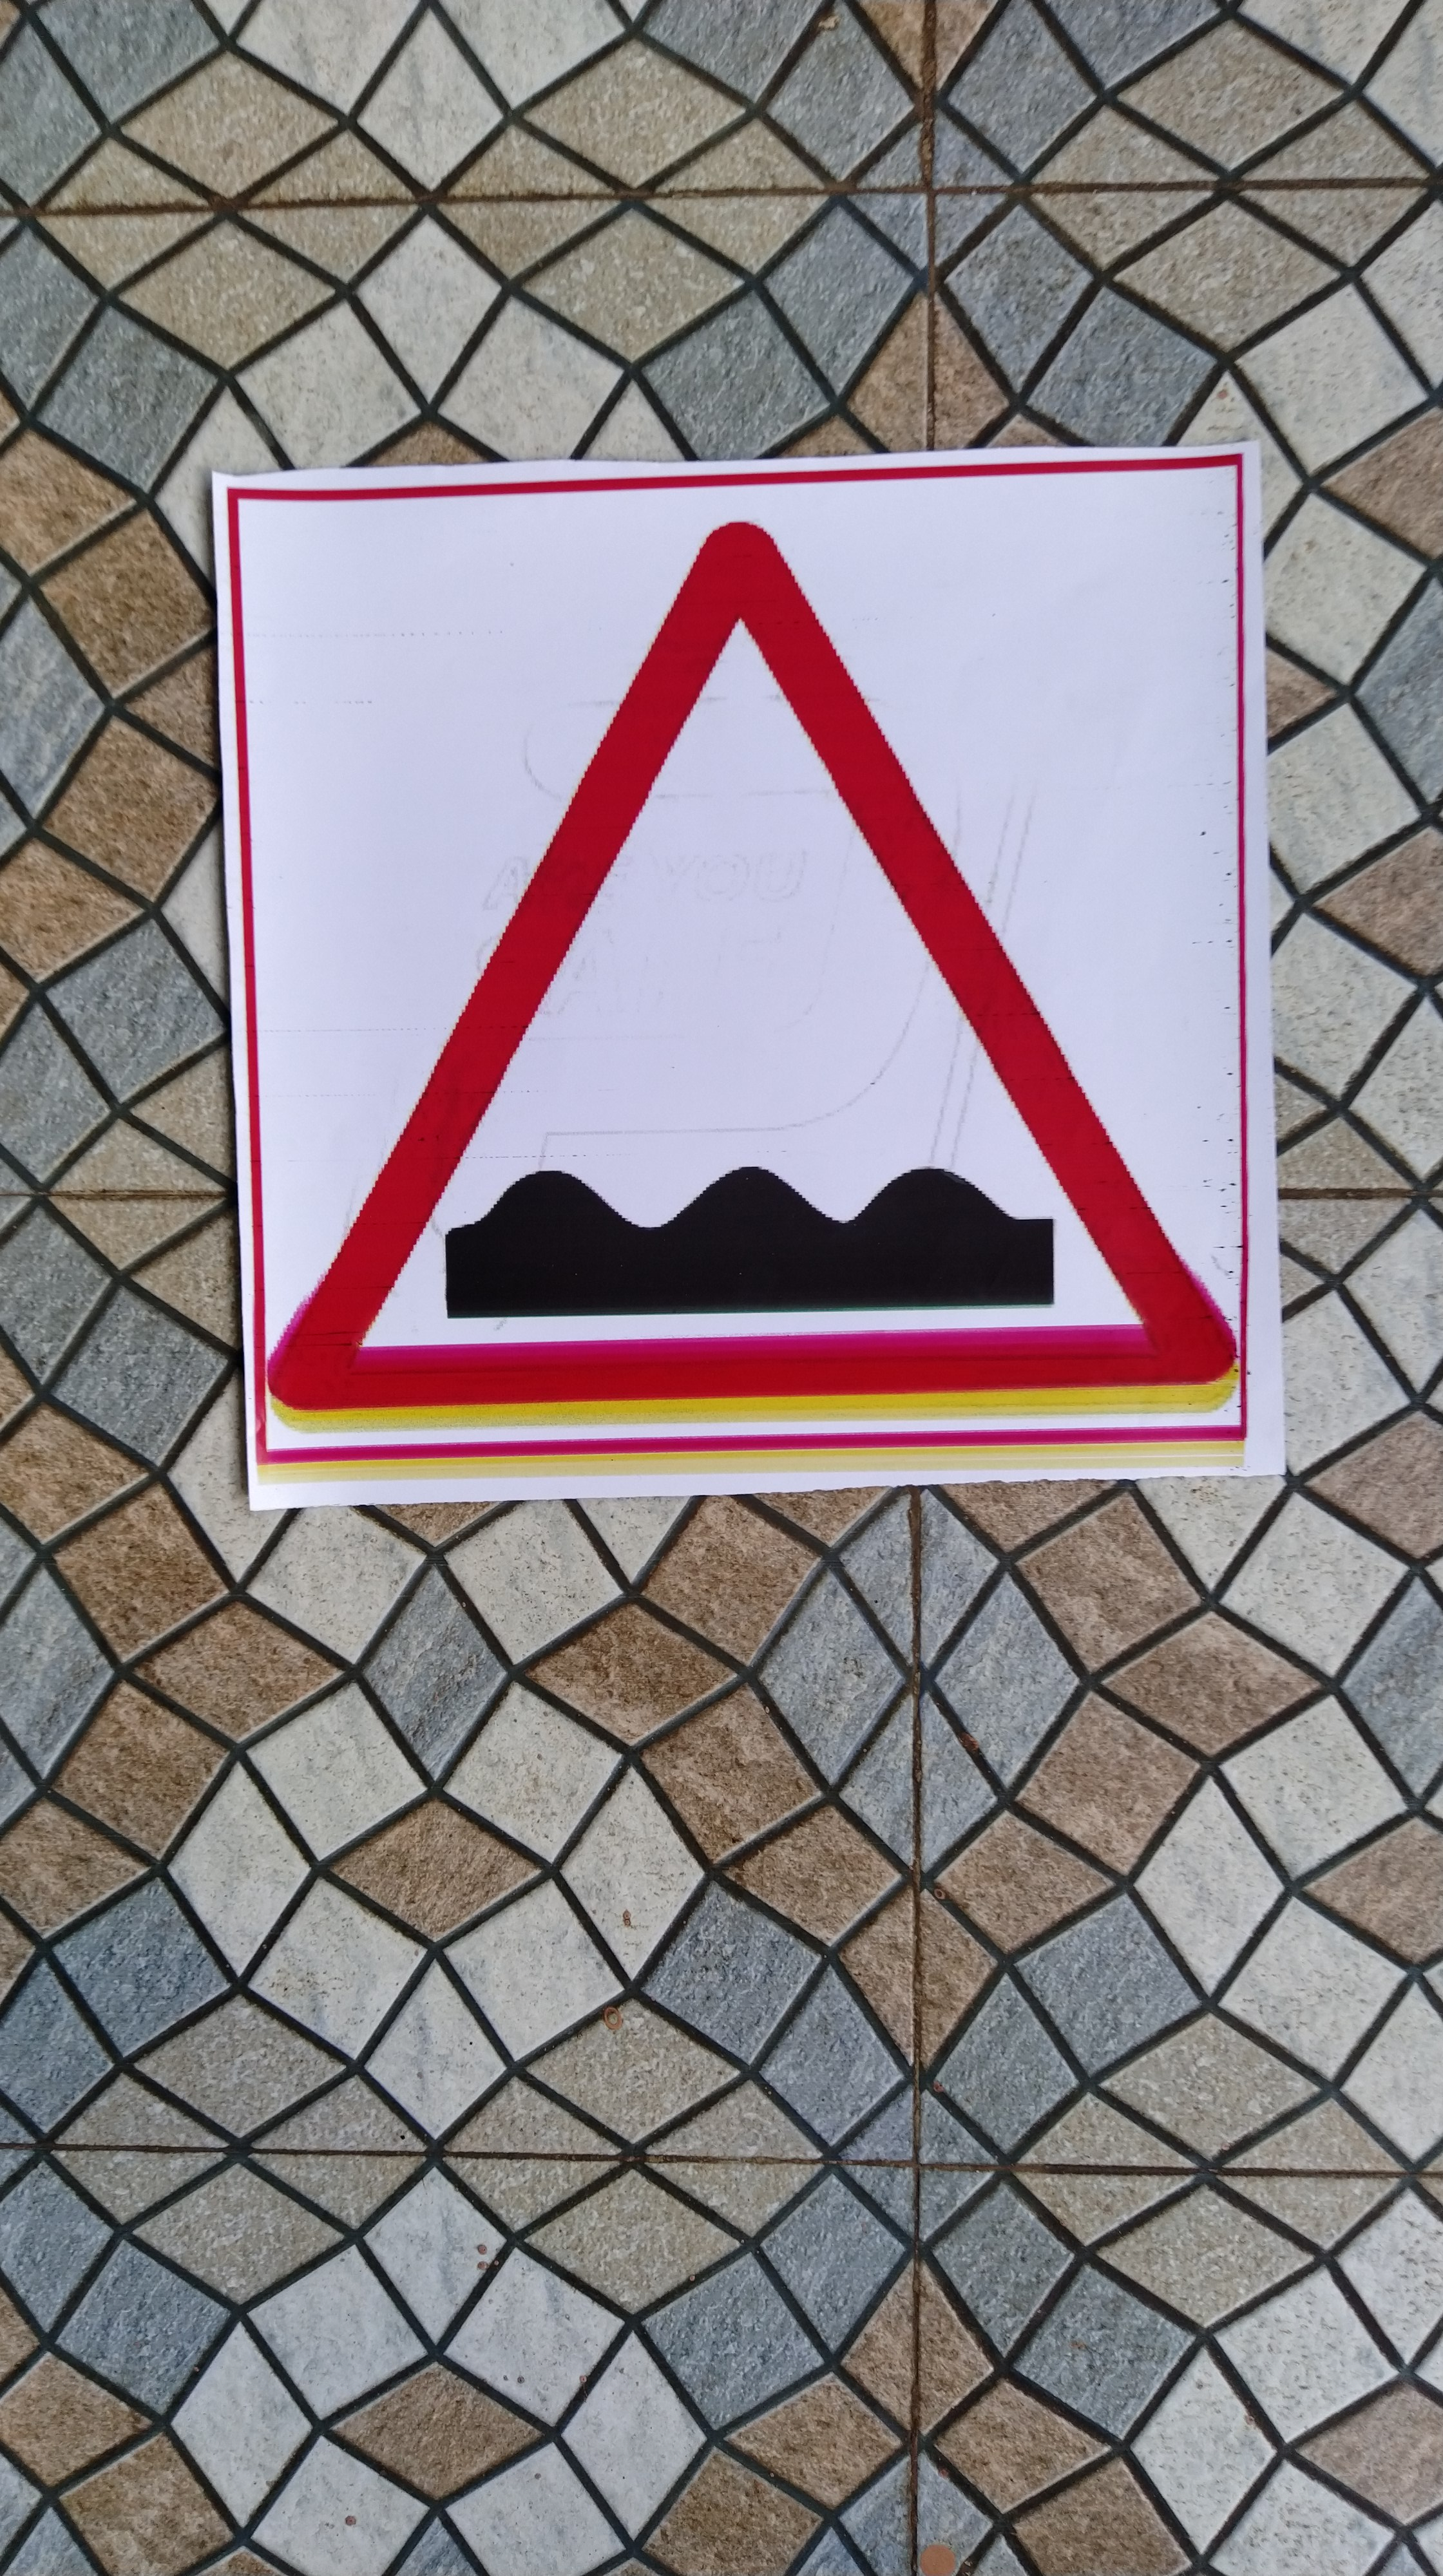speed breaker: (225, 481, 1287, 1476)
